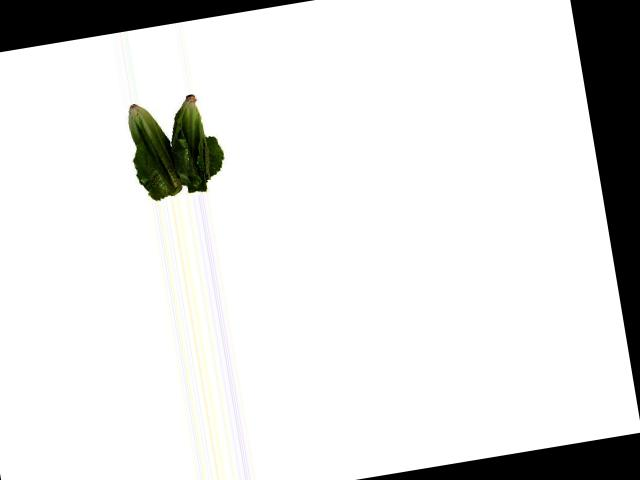lettuce: (119, 91, 219, 203)
